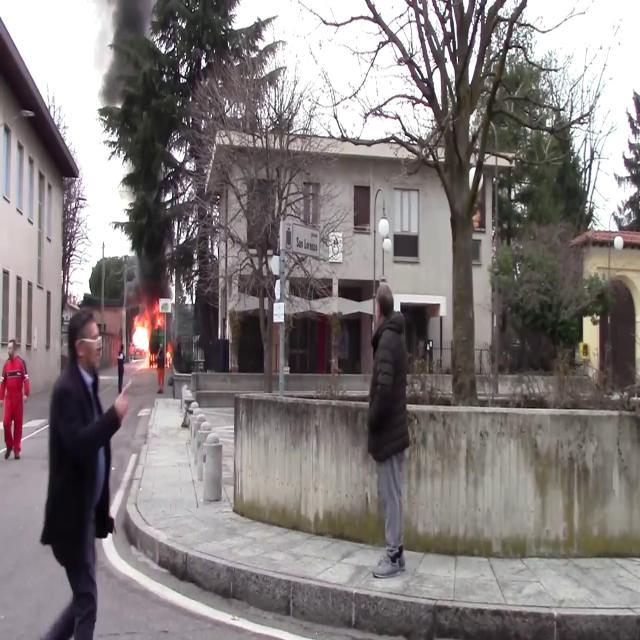Fire: (130, 306, 160, 368)
Smoke: (100, 0, 160, 122)
